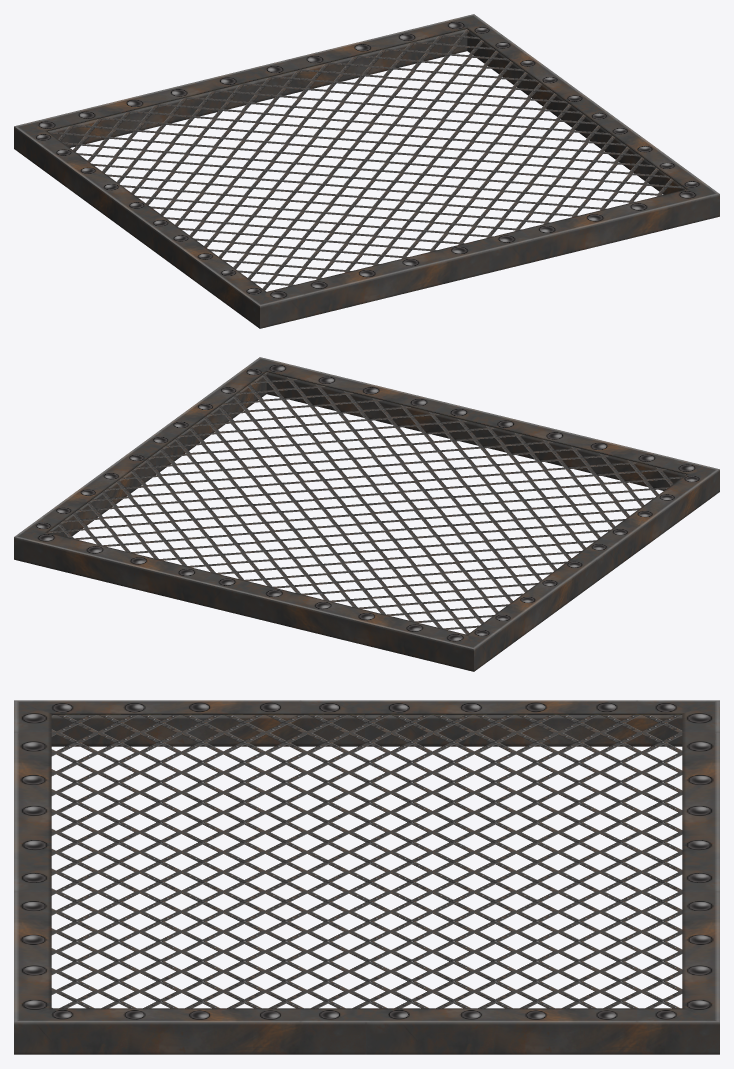
Rendered from molten_hall_platform_metal.fbx.
The picture shows the model from 3 angles, top to bottom: view 1: azimuth 30°, elevation 25°; view 2: azimuth 150°, elevation 25°; view 3: azimuth 270°, elevation 25°; orthographic projection. The views are drawn at different scales.
Parts seen in each view (by area): view 1: platform_metal; view 2: platform_metal; view 3: platform_metal.
Part boxes in pixels (<box>): platform_metal: <box>14,14,719,328</box>; platform_metal: <box>14,357,719,671</box>; platform_metal: <box>14,700,719,1054</box>.
Size of the model in its own units: 1496 by 70.25 by 1386.
